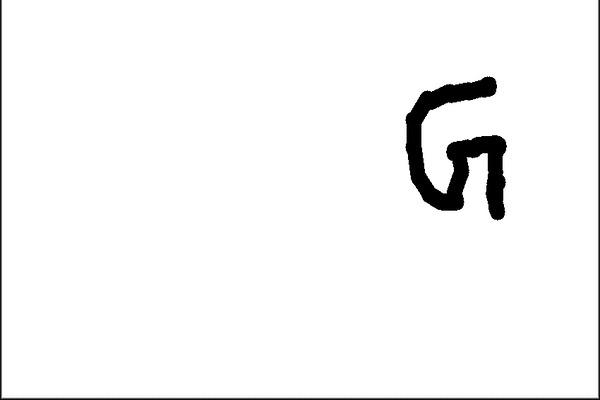G: (404, 75, 512, 225)
